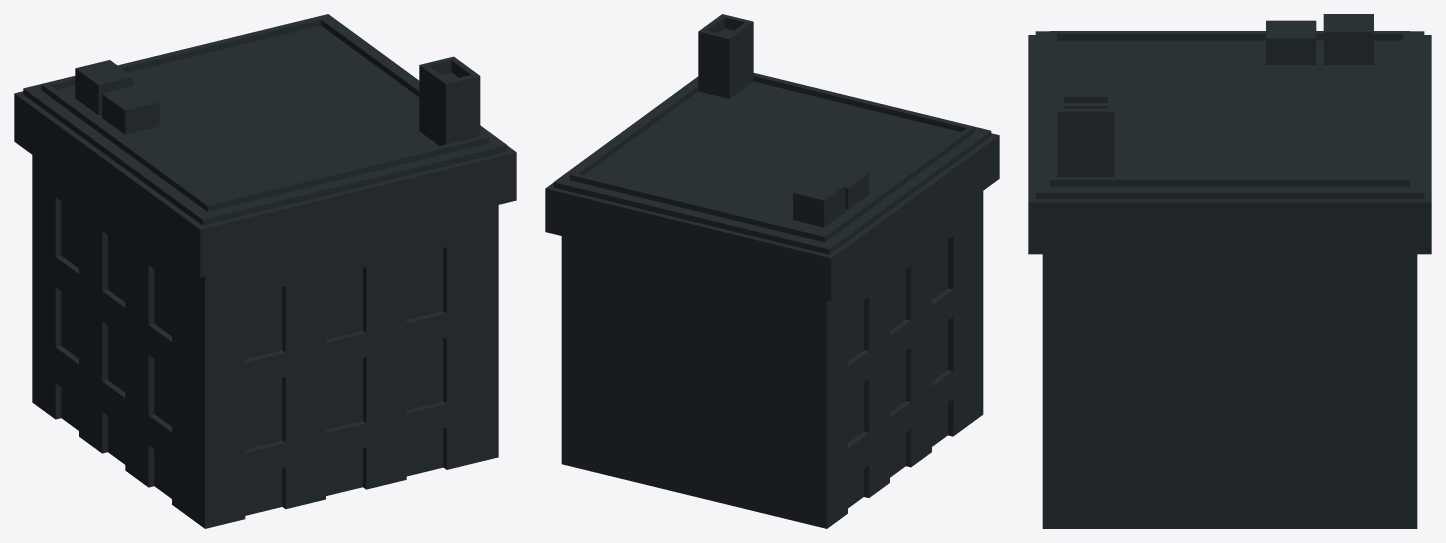
File: bg_house2.obj
3 renders of one model, left to right at view 1: azimuth 30°, elevation 25°; view 2: azimuth 150°, elevation 25°; view 3: azimuth 270°, elevation 25°, orthographic. The views are drawn at different scales.
Size of the model in its own units: 5.5 by 6.3 by 5.6.
1 material, 1 textured.
